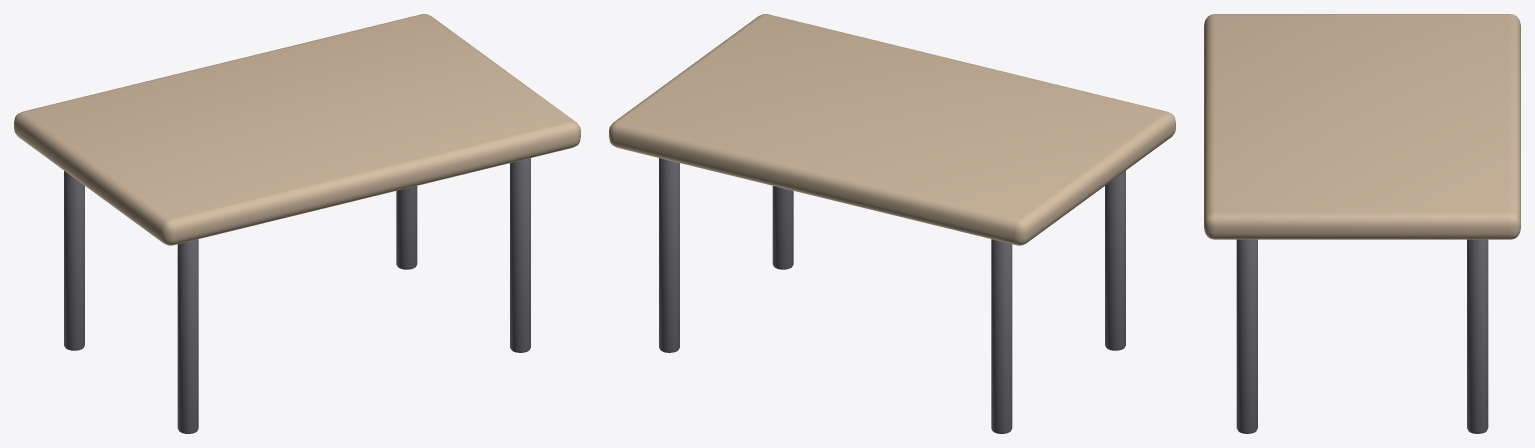
The model's file is coffee_table.glb.
3 views of the same model, side by side, from view 1: azimuth 30°, elevation 25°; view 2: azimuth 150°, elevation 25°; view 3: azimuth 270°, elevation 25° (orthographic).
Parts seen in each view (by area): view 1: Top, Leg_-0.27_-0.16, Leg_0.27_-0.16, Leg_-0.27_0.16, Leg_0.27_0.16; view 2: Top, Leg_-0.27_0.16, Leg_0.27_0.16, Leg_-0.27_-0.16, Leg_0.27_-0.16; view 3: Top, Leg_0.27_-0.16, Leg_0.27_0.16.
Part boxes in pixels (x1,y1,x2,y2): Top: (14, 14, 580, 245); Leg_-0.27_-0.16: (177, 239, 198, 433); Leg_0.27_-0.16: (510, 158, 530, 352); Leg_-0.27_0.16: (64, 171, 84, 350); Leg_0.27_0.16: (396, 186, 417, 269); Top: (609, 14, 1175, 245); Leg_-0.27_0.16: (991, 239, 1012, 433); Leg_0.27_0.16: (659, 158, 679, 352); Leg_-0.27_-0.16: (1105, 171, 1125, 350); Leg_0.27_-0.16: (772, 186, 793, 269); Top: (1204, 14, 1520, 239); Leg_0.27_-0.16: (1236, 239, 1257, 433); Leg_0.27_0.16: (1467, 239, 1488, 433).
Bounding box in the file's own units: 0.68 × 0.36 × 0.44.
